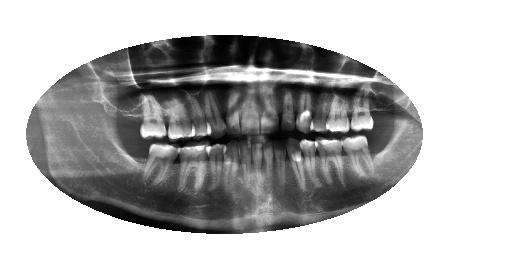Cavity: (275, 138, 287, 189)
